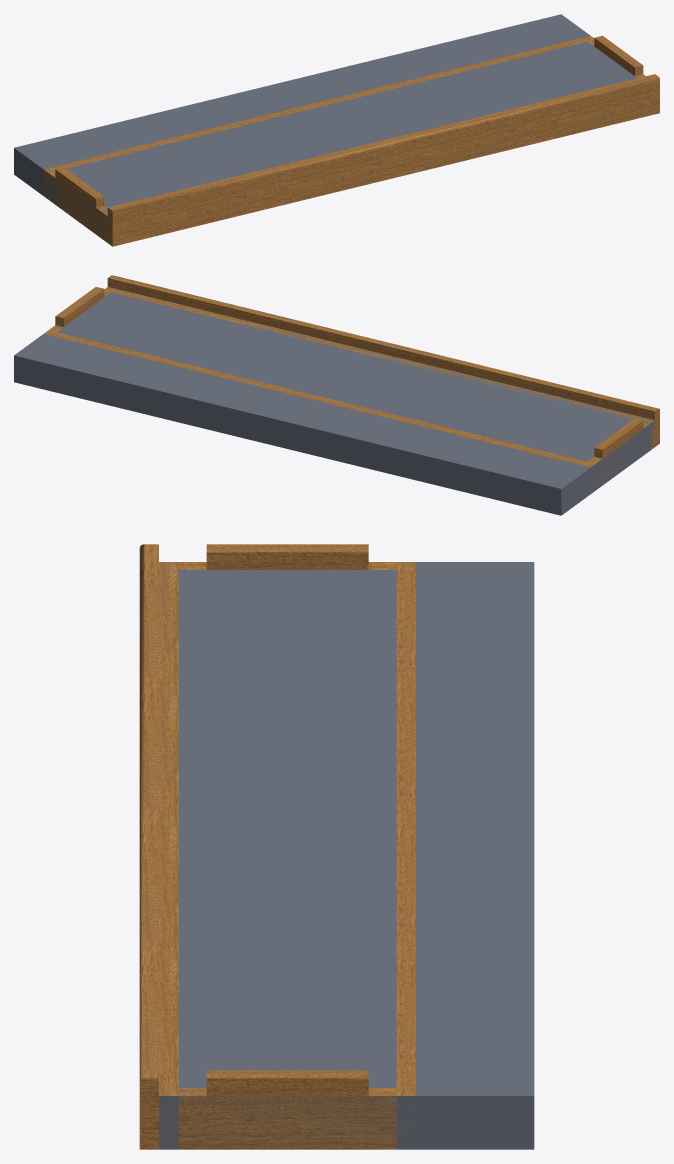
File: VCKS0020.glb
The picture shows the model from 3 angles, top to bottom: view 1: azimuth 30°, elevation 25°; view 2: azimuth 150°, elevation 25°; view 3: azimuth 270°, elevation 25°; orthographic projection. The views are drawn at different scales.
Visible parts, largest first — view 1: _bb, G-__555690; view 2: _bb, G-__555690; view 3: _bb, G-__555690.
Part boxes in pixels (x1,y1,x2,y2): _bb: (14,14,636,240); G-__555690: (43,35,659,246); _bb: (14,287,654,515); G-__555690: (44,275,659,489); _bb: (159,562,534,1149); G-__555690: (139,544,415,1149).
Bounding box in the file's own units: 0.812 × 0.0505 × 0.2535.
3 materials, 2 textured.
